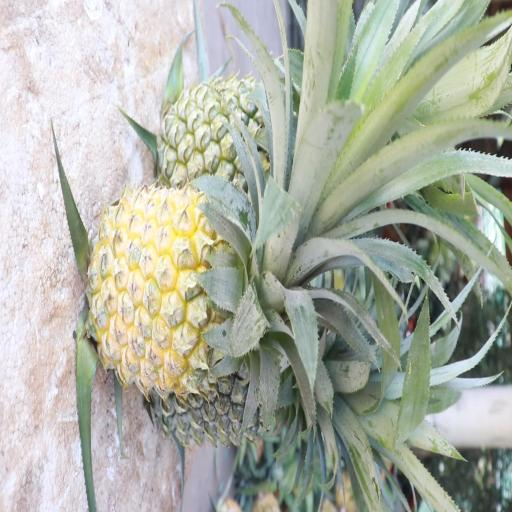------------------------------: (160, 70, 310, 198)
Pineapple - v8 v1: (91, 186, 296, 392)
